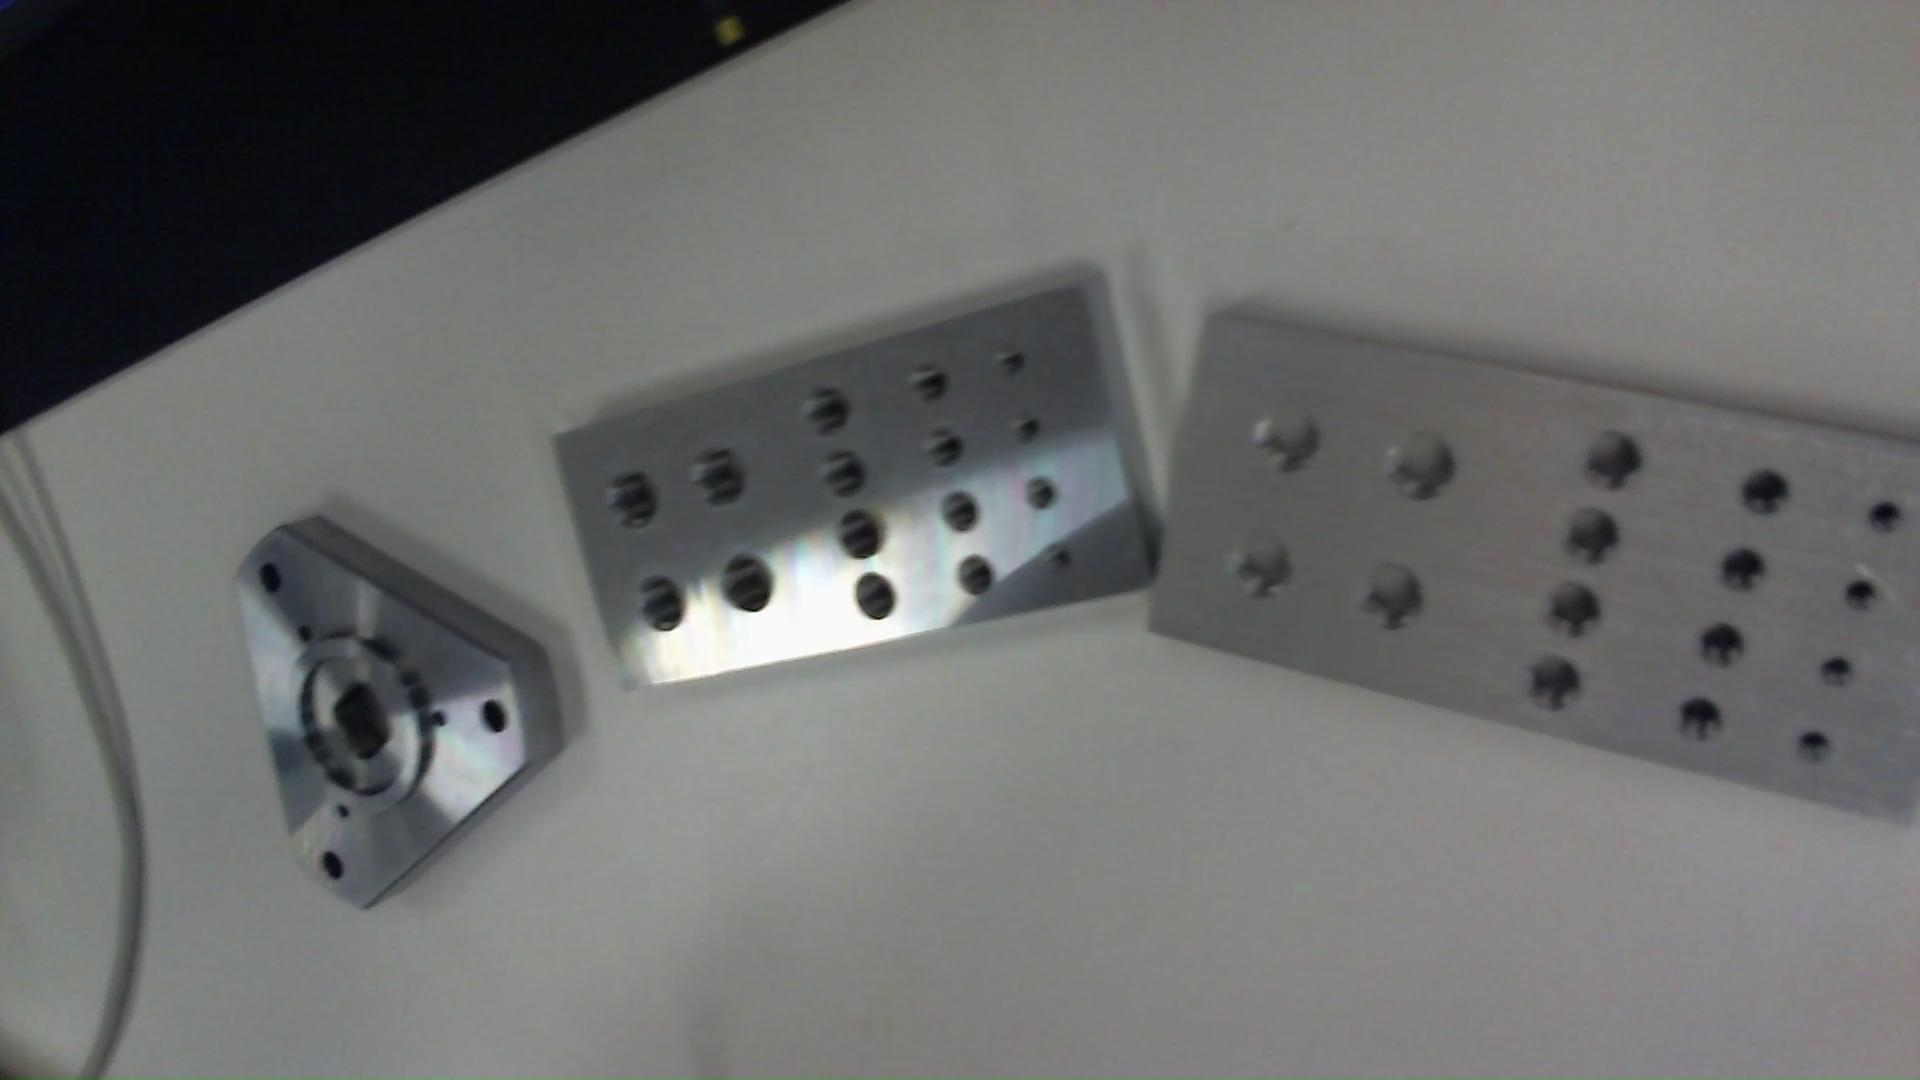hole: (1345, 558, 1428, 642), (1251, 394, 1328, 481), (1383, 426, 1461, 506), (1232, 531, 1298, 605), (1581, 417, 1644, 493), (1535, 572, 1601, 642), (687, 447, 753, 513), (1520, 655, 1584, 720), (599, 468, 659, 535), (629, 568, 687, 638), (720, 550, 778, 618), (1559, 502, 1621, 564), (1669, 688, 1724, 750), (1696, 622, 1747, 678), (1716, 543, 1767, 599), (802, 382, 852, 436), (1739, 467, 1789, 521), (852, 574, 898, 626), (916, 423, 964, 473), (836, 510, 881, 563), (820, 454, 865, 497), (906, 363, 951, 406), (938, 491, 981, 535), (1791, 724, 1833, 767), (955, 550, 992, 599), (1866, 496, 1904, 538), (1847, 576, 1882, 622), (1022, 472, 1059, 509), (476, 695, 509, 736), (1820, 658, 1855, 694), (251, 559, 284, 596), (996, 345, 1027, 381), (318, 847, 347, 885), (1013, 414, 1044, 444), (293, 621, 318, 646), (1052, 549, 1073, 574), (430, 703, 447, 729), (334, 802, 349, 823)
